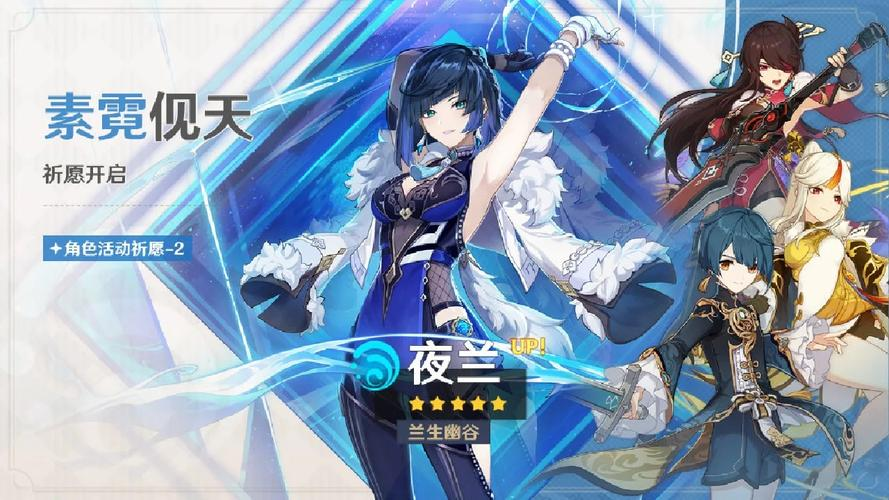夜兰: (324, 14, 630, 500)
